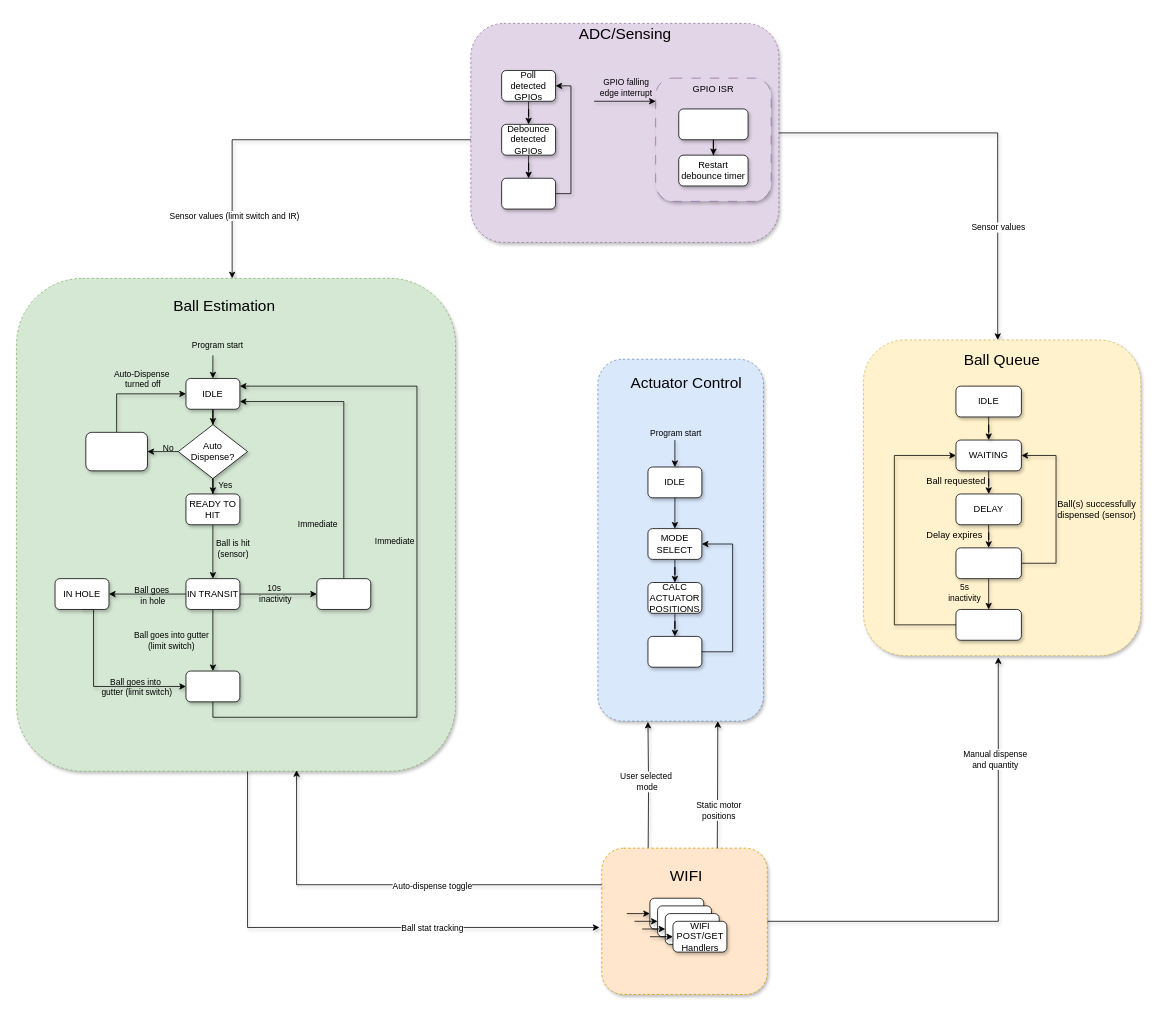
The diagram is 1174 pixels wide and 1013 high, and some of its shapes have lost their labels. Each missing label, with the centre of its shape:
APPLY ACTUATOR POSITIONS: [675,653]
DISPENSING: [989,564]
DISPENSING FAILED: [989,626]
IN GUTTER: [213,687]
NO ESTIMATION TRACKING: [117,452]
Set "detected" flag: [714,125]
STUCK: [344,595]
Update sensor readings: [529,194]
